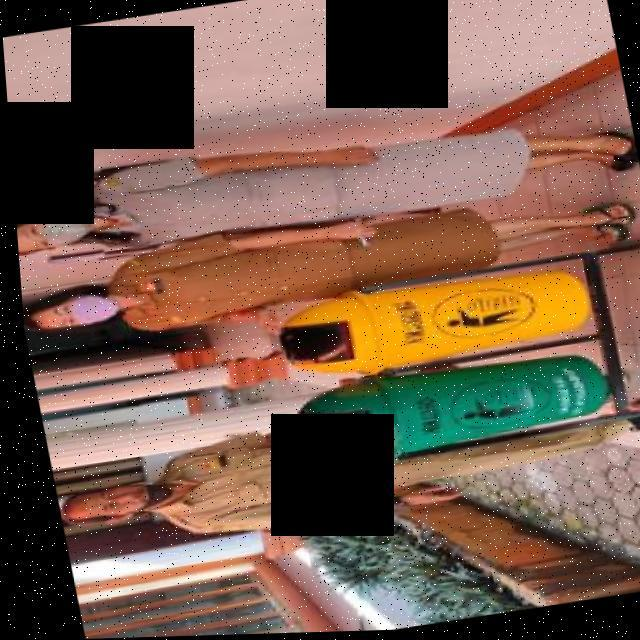bin: (252, 252, 611, 393), (270, 342, 621, 481)
